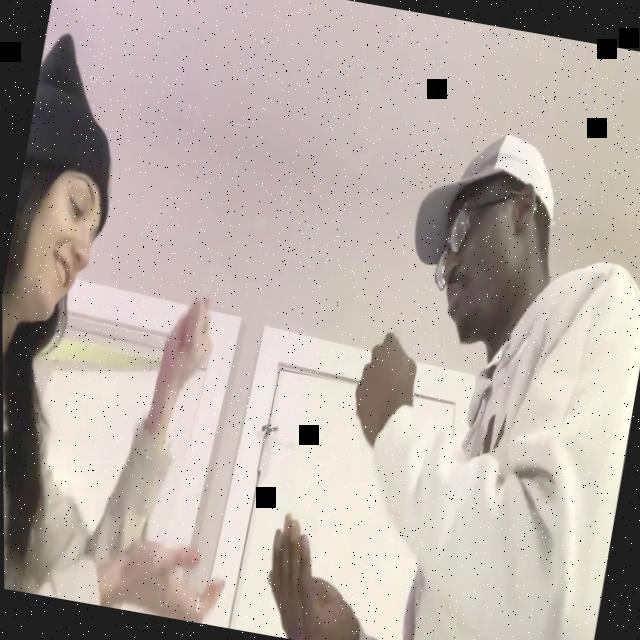Rock: (346, 328, 427, 450), (153, 292, 218, 398)
